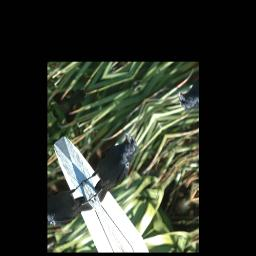Crow: (77, 130, 150, 206)
